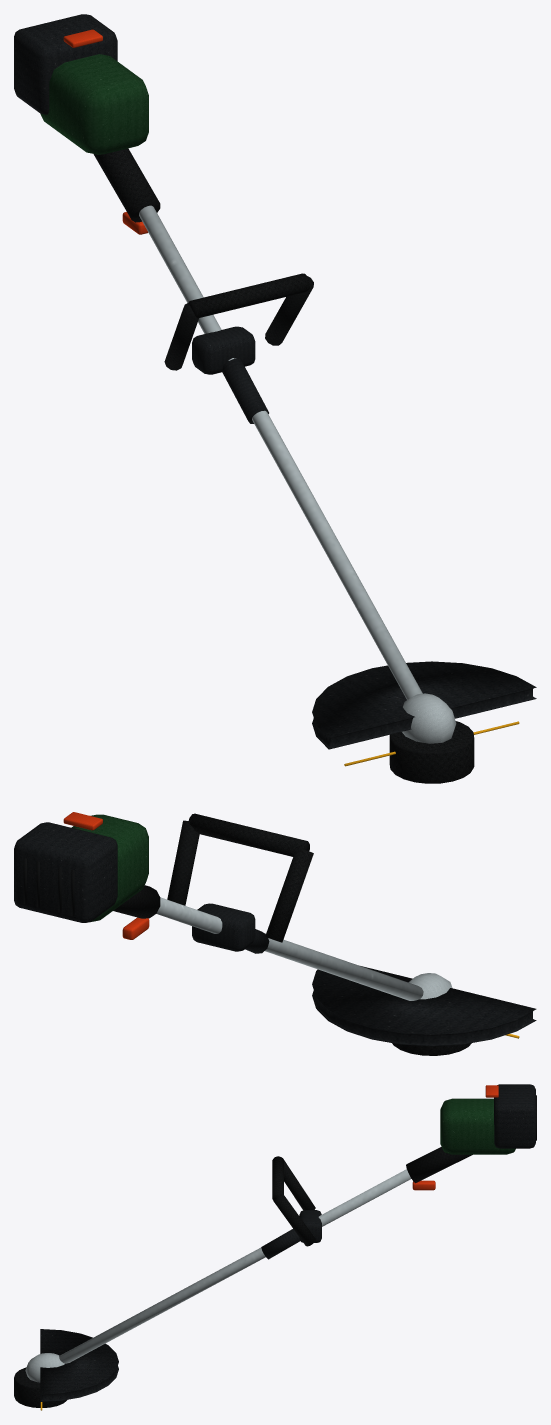
The model's file is Trimmer_Battery.gltf.
The picture shows the model from 3 angles, top to bottom: view 1: azimuth 30°, elevation 25°; view 2: azimuth 150°, elevation 25°; view 3: azimuth 270°, elevation 25°; orthographic projection. The views are drawn at different scales.
Parts seen in each view (by area): view 1: Trimmer_Battery__Body, Trimmer_Battery__Spool; view 2: Trimmer_Battery__Body, Trimmer_Battery__Spool; view 3: Trimmer_Battery__Body, Trimmer_Battery__Spool.
Part boxes in pixels (x1,y1,x2,y2): Trimmer_Battery__Body: (14, 14, 536, 749); Trimmer_Battery__Spool: (344, 721, 519, 783); Trimmer_Battery__Body: (14, 812, 536, 1046); Trimmer_Battery__Spool: (392, 1033, 519, 1055); Trimmer_Battery__Body: (25, 1084, 536, 1401); Trimmer_Battery__Spool: (14, 1367, 67, 1410).
Bounding box in the file's own units: 0.4791 × 1.07 × 1.61.
1 material, 1 textured.
